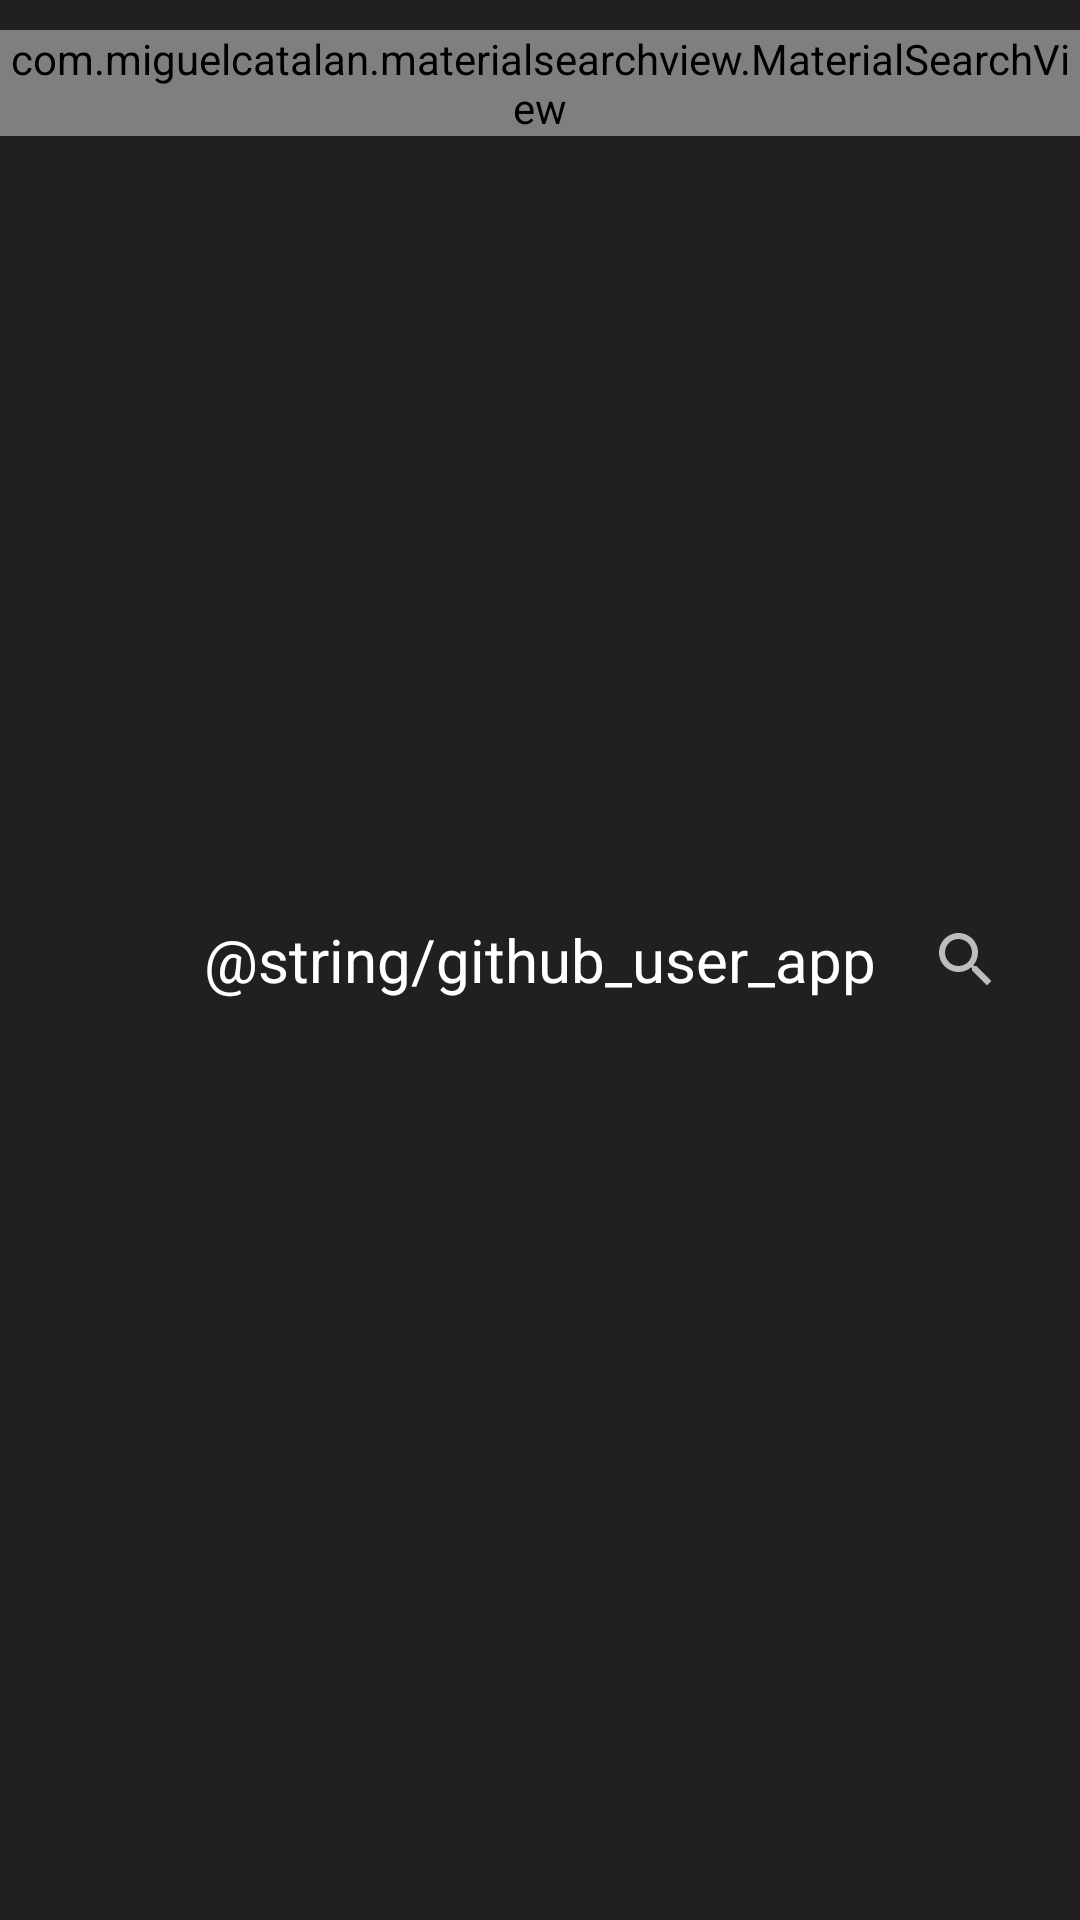

Where icons sit on this 1080×1920 app screen, as BBox(x1, y1, x2, y2):
search: BBox(939, 933, 991, 985)
